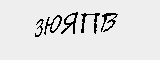В: (99, 10, 118, 34)
З: (32, 17, 44, 39)
П: (81, 10, 100, 37)
Ю: (44, 12, 62, 37)
Я: (58, 10, 78, 37)
